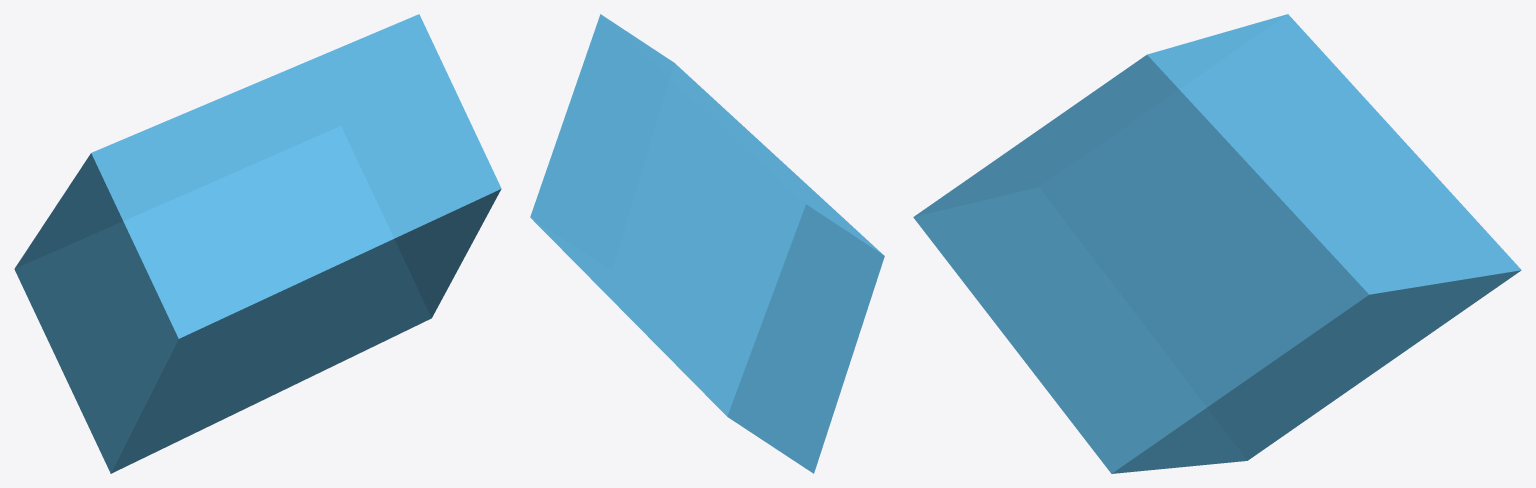
Rendered from Event_420094457_HErechit_0.fbx.
3 renders of one model, left to right at view 1: azimuth 30°, elevation 25°; view 2: azimuth 150°, elevation 25°; view 3: azimuth 270°, elevation 25°, orthographic. The views are drawn at different scales.
Visible parts, largest first — view 1: Model; view 2: Model; view 3: Model.
Boxes of the visible parts, bbox=[...] form: Model: bbox=[14, 14, 501, 473]; Model: bbox=[530, 14, 884, 473]; Model: bbox=[913, 14, 1521, 473].
Size of the model in its own units: 0.6763 by 0.9729 by 0.9012.
